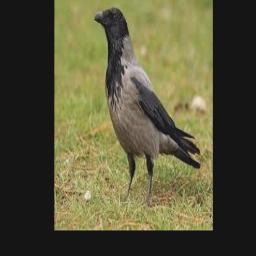Crow: (95, 6, 202, 202)
